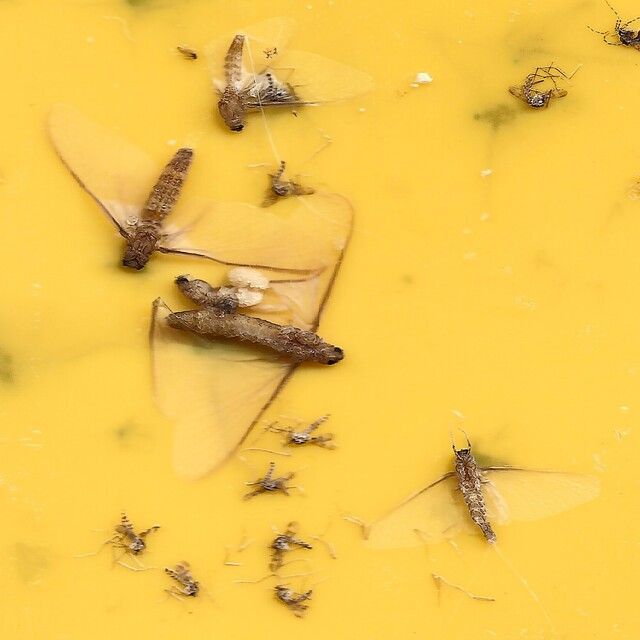Ephemeroptera: (147, 189, 355, 487), (40, 107, 338, 279), (362, 445, 600, 544), (219, 33, 316, 135), (170, 269, 242, 321)
Nematocera: (258, 160, 312, 208), (281, 411, 338, 453), (267, 520, 312, 572), (245, 462, 284, 499), (274, 583, 315, 607), (172, 44, 199, 62)
